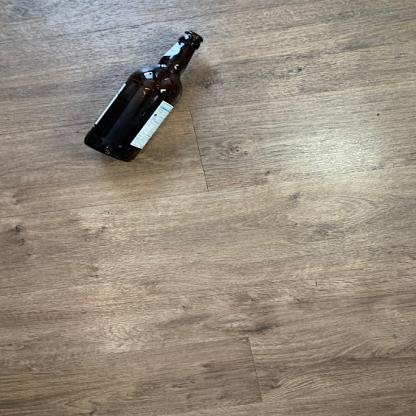trash: (82, 30, 202, 162)
